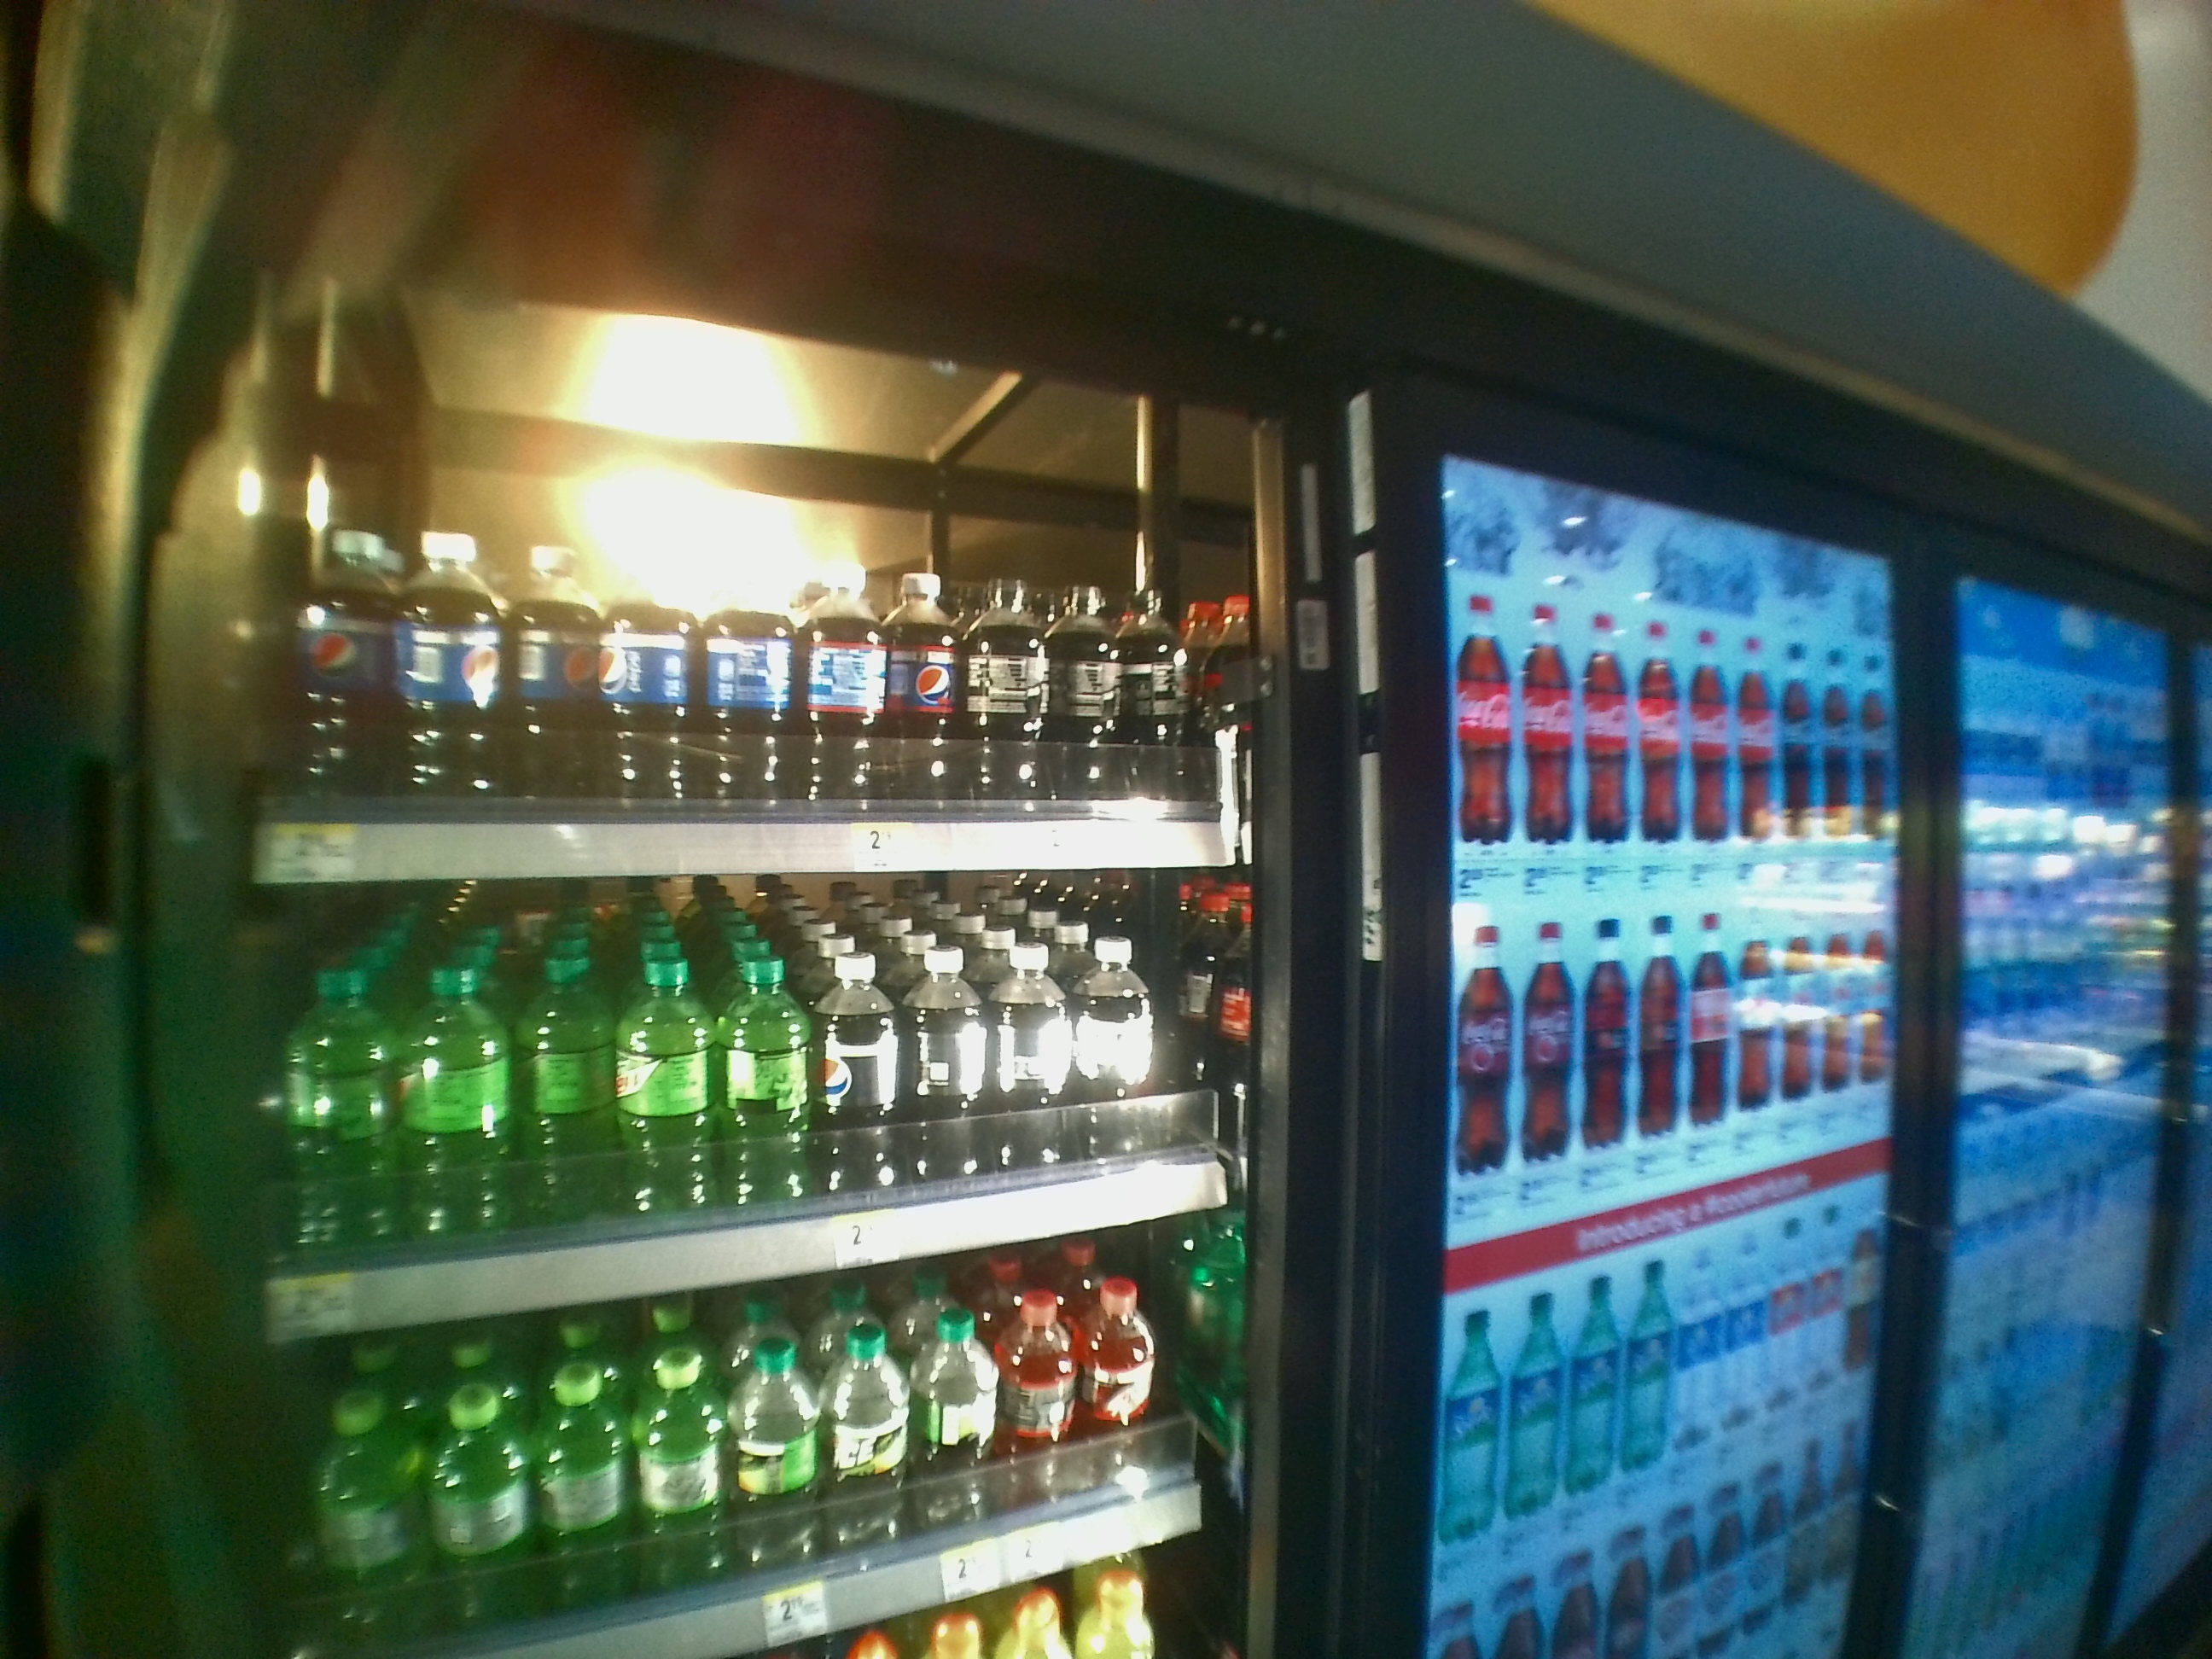shelf: (240, 265, 1263, 863)
